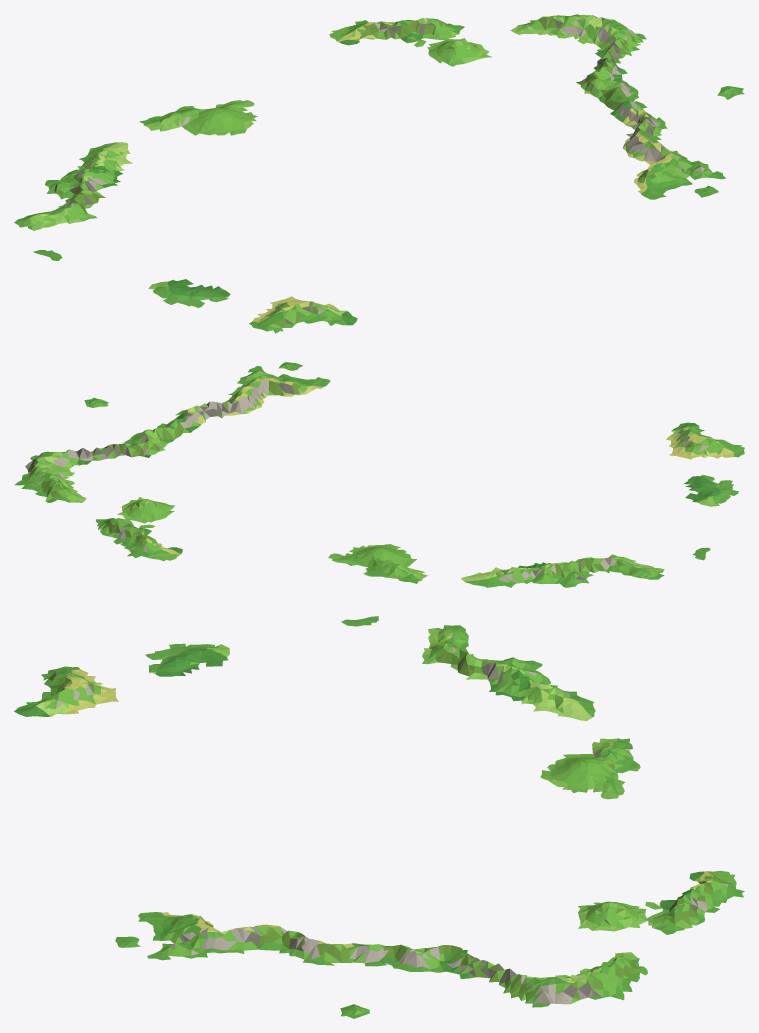
Rendered from Isl-bot3-Relief.fbx.
The picture shows the model from 3 angles, top to bottom: view 1: azimuth 30°, elevation 25°; view 2: azimuth 150°, elevation 25°; view 3: azimuth 270°, elevation 25°; orthographic projection. The views are drawn at different scales.
Visible parts, largest first — view 1: Isl-bot3-Relief-c22, Isl-bot3-Relief-c12, Isl-bot3-Relief-c21, Isl-bot3-Relief-c11, Isl-bot3-Relief-c02; view 2: Isl-bot3-Relief-c22, Isl-bot3-Relief-c12, Isl-bot3-Relief-c21, Isl-bot3-Relief-c11, Isl-bot3-Relief-c02, Isl-bot3-Relief-c32; view 3: Isl-bot3-Relief-c22, Isl-bot3-Relief-c12, Isl-bot3-Relief-c21, Isl-bot3-Relief-c11, Isl-bot3-Relief-c32, Isl-bot3-Relief-c02.
Part boxes in pixels (x1,y1,x2,y2): Isl-bot3-Relief-c22: [329, 14, 647, 118]; Isl-bot3-Relief-c12: [39, 100, 257, 225]; Isl-bot3-Relief-c21: [617, 107, 725, 199]; Isl-bot3-Relief-c11: [148, 279, 357, 333]; Isl-bot3-Relief-c02: [14, 213, 59, 257]; Isl-bot3-Relief-c22: [20, 418, 196, 561]; Isl-bot3-Relief-c12: [328, 544, 644, 587]; Isl-bot3-Relief-c21: [174, 362, 330, 427]; Isl-bot3-Relief-c11: [666, 422, 744, 506]; Isl-bot3-Relief-c02: [630, 550, 706, 579]; Isl-bot3-Relief-c32: [14, 400, 107, 485]; Isl-bot3-Relief-c22: [354, 870, 744, 994]; Isl-bot3-Relief-c12: [422, 636, 640, 799]; Isl-bot3-Relief-c21: [115, 912, 357, 965]; Isl-bot3-Relief-c11: [14, 643, 229, 716]; Isl-bot3-Relief-c32: [354, 979, 624, 1018]; Isl-bot3-Relief-c02: [355, 616, 468, 641].
Size of the model in its own units: 128 by 2.62 by 98.1.
